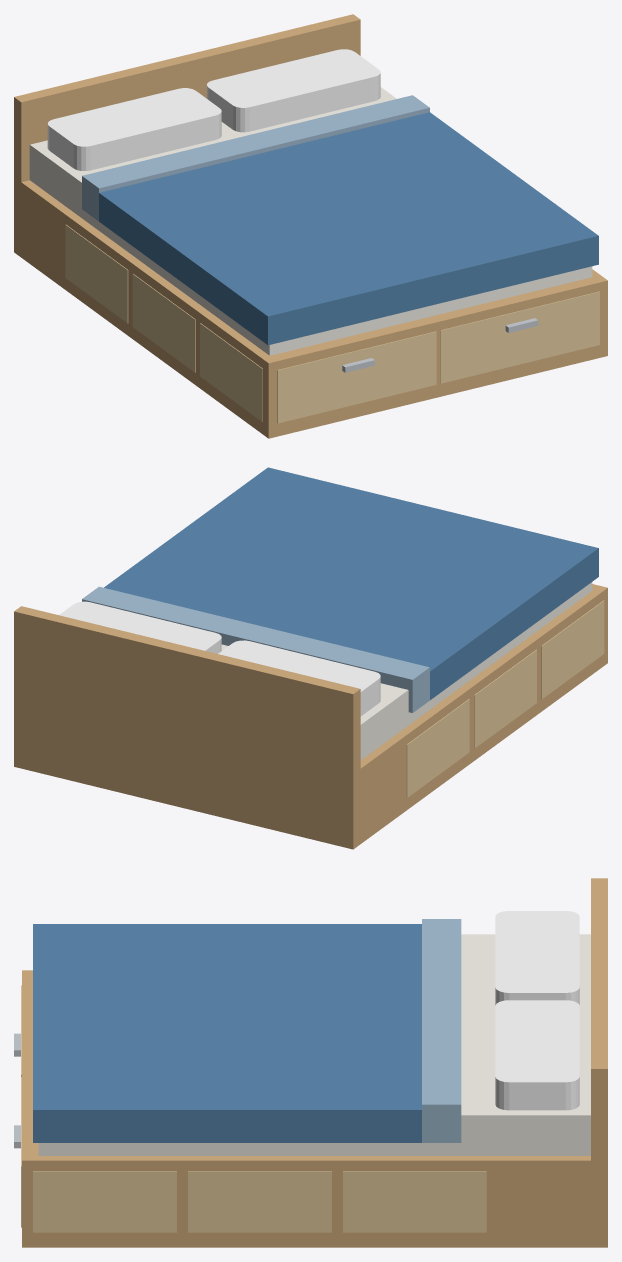
The model's file is storage_bed.glb.
3 views of the same model, one above another, from view 1: azimuth 30°, elevation 25°; view 2: azimuth 150°, elevation 25°; view 3: azimuth 270°, elevation 25° (orthographic). The views are drawn at different scales.
Parts seen in each view (by area): view 1: storage_bed_Body; view 2: storage_bed_Body; view 3: storage_bed_Body.
Boxes of the visible parts, x1=… form: storage_bed_Body: x1=14, y1=14, x2=607, y2=438; storage_bed_Body: x1=14, y1=467, x2=607, y2=849; storage_bed_Body: x1=14, y1=878, x2=607, y2=1247.
Bounding box in the file's own units: 1.61 × 0.7 × 2.11.
